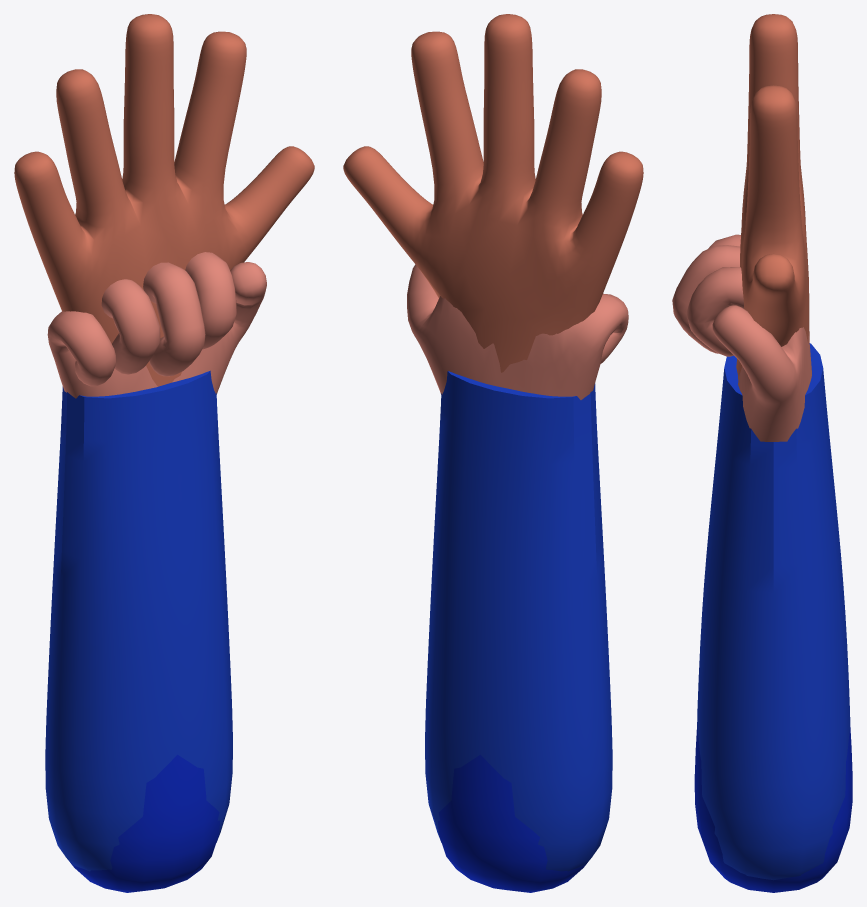
Rendered from manoa.obj.
3 views of the same model, side by side, from view 1: azimuth 30°, elevation 25°; view 2: azimuth 150°, elevation 25°; view 3: azimuth 270°, elevation 25° (orthographic).
Parts seen in each view (by area): view 1: ropa_1_Cube.001, Mano_1_Cube, Mano_2_Cube.002, ropa_2_Cube.003; view 2: ropa_1_Cube.001, Mano_1_Cube, Mano_2_Cube.002, ropa_2_Cube.003; view 3: ropa_1_Cube.001, Mano_1_Cube, Mano_2_Cube.002, ropa_2_Cube.003.
Boxes of the visible parts, x1=… form: ropa_1_Cube.001: x1=45, y1=370, x2=232, y2=871; Mano_1_Cube: x1=14, y1=14, x2=314, y2=386; Mano_2_Cube.002: x1=47, y1=252, x2=266, y2=398; ropa_2_Cube.003: x1=69, y1=754, x2=220, y2=892; ropa_1_Cube.001: x1=425, y1=371, x2=612, y2=871; Mano_1_Cube: x1=343, y1=14, x2=643, y2=372; Mano_2_Cube.002: x1=407, y1=264, x2=628, y2=399; ropa_2_Cube.003: x1=437, y1=754, x2=588, y2=892; ropa_1_Cube.001: x1=697, y1=343, x2=850, y2=880; Mano_1_Cube: x1=736, y1=14, x2=809, y2=375; Mano_2_Cube.002: x1=672, y1=234, x2=811, y2=441; ropa_2_Cube.003: x1=694, y1=725, x2=852, y2=892.
Size of the model in its own units: 3.75 by 10.52 by 1.98.
